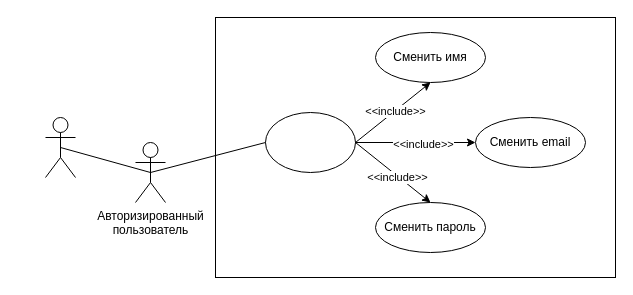
The diagram is 633 pixels wide and 295 high, and some of its shapes have lost their labels. Each missing label, with the centre of its shape:
"Администратор" belongs at point (60, 147).
"Управление профилем" belongs at point (310, 142).
